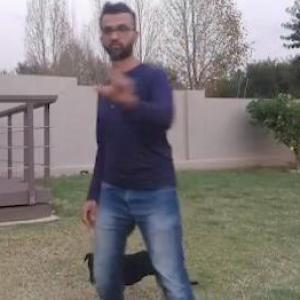land_hand: (90, 41, 134, 107)
